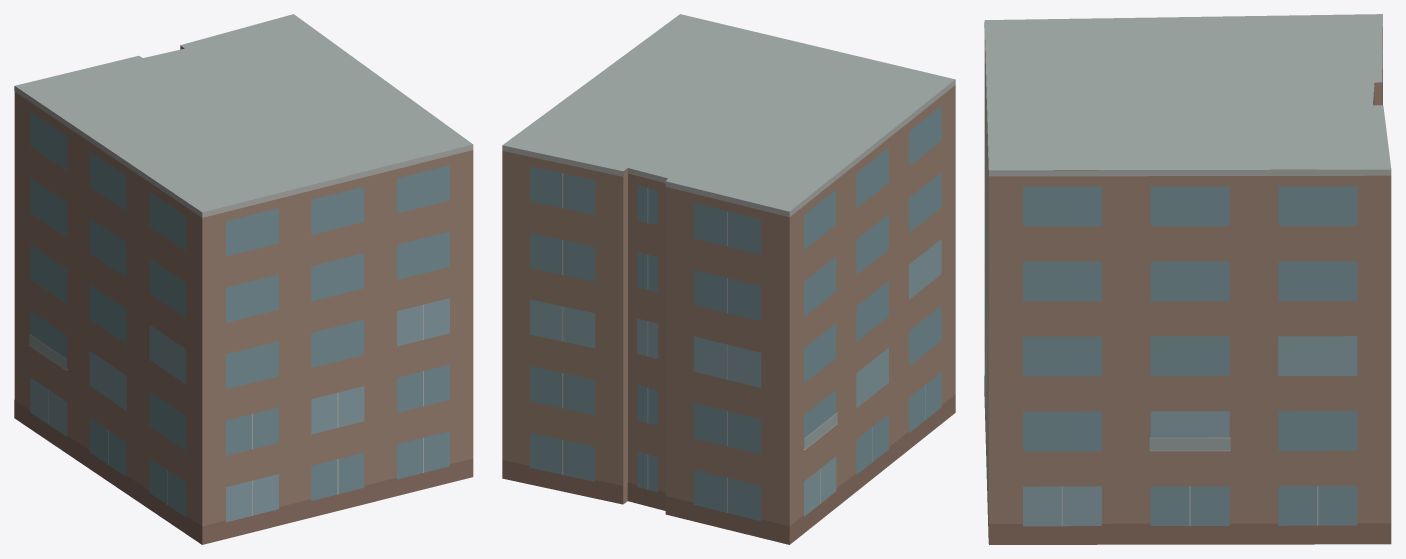
File: survey-upis-33028590.glb
3 views of the same model, side by side, from view 1: azimuth 30°, elevation 25°; view 2: azimuth 150°, elevation 25°; view 3: azimuth 270°, elevation 25° (orthographic). The views are drawn at different scales.
Visible parts, largest first — view 1: survey-upis-33028590.tmp; view 2: survey-upis-33028590.tmp; view 3: survey-upis-33028590.tmp.
Boxes of the visible parts, left/top/right/bottom form: survey-upis-33028590.tmp: left=14, top=14, right=473, bottom=544; survey-upis-33028590.tmp: left=502, top=14, right=955, bottom=544; survey-upis-33028590.tmp: left=984, top=14, right=1391, bottom=544.
Bounding box in the file's own units: 13.26 × 14.8 × 14.57.
